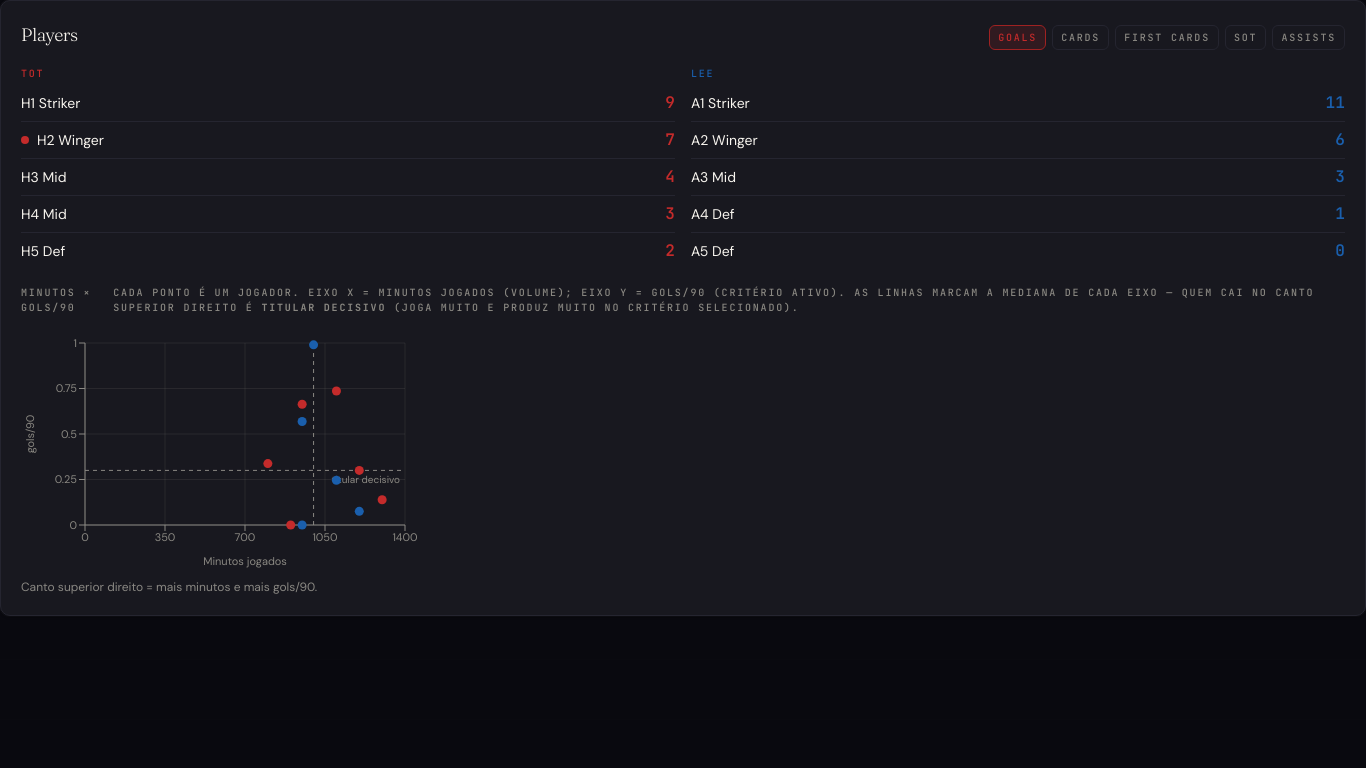
Test: U.6 — scatter Y axis segue criterion ativo › ao trocar para 'assists', Y-axis label muda para assist/90
Click the button "assists" at (1309, 38), box [1272,25,1345,50]
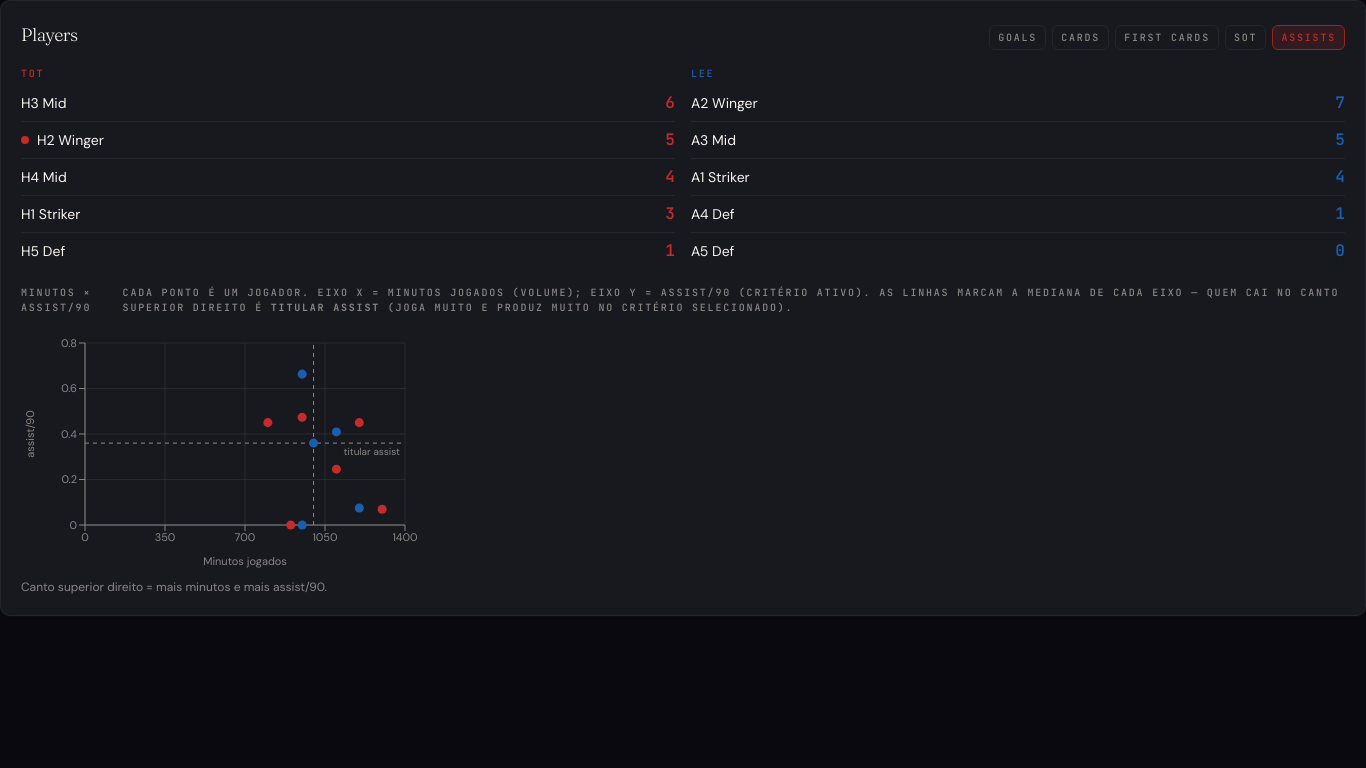
Result: the text "assist/90" is shown at [661,286,731,299]
